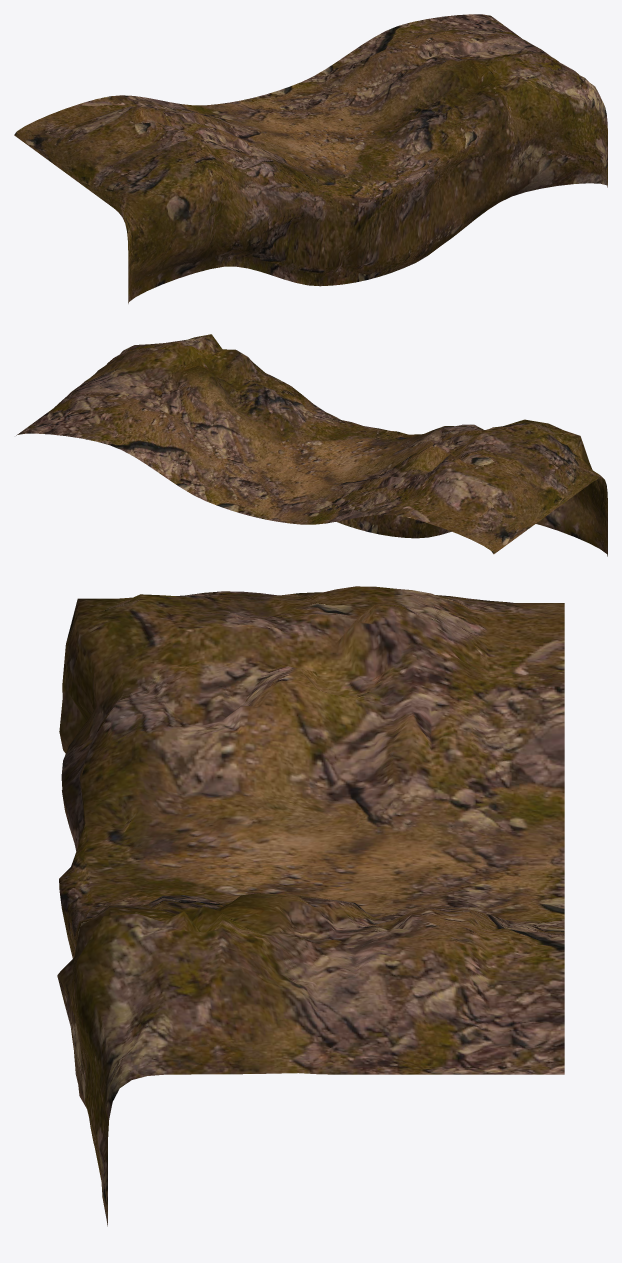
Rendered from Ground path_start.fbx.
The picture shows the model from 3 angles, top to bottom: view 1: azimuth 30°, elevation 25°; view 2: azimuth 150°, elevation 25°; view 3: azimuth 270°, elevation 25°; orthographic projection. The views are drawn at different scales.
Visible parts, largest first — view 1: Bridge start001; view 2: Bridge start001; view 3: Bridge start001.
Part boxes in pixels (x1,y1,x2,y2): Bridge start001: [14, 14, 607, 303]; Bridge start001: [16, 334, 607, 556]; Bridge start001: [57, 586, 564, 1226].
Bounding box in the file's own units: 20.09 × 6.45 × 9.2.
